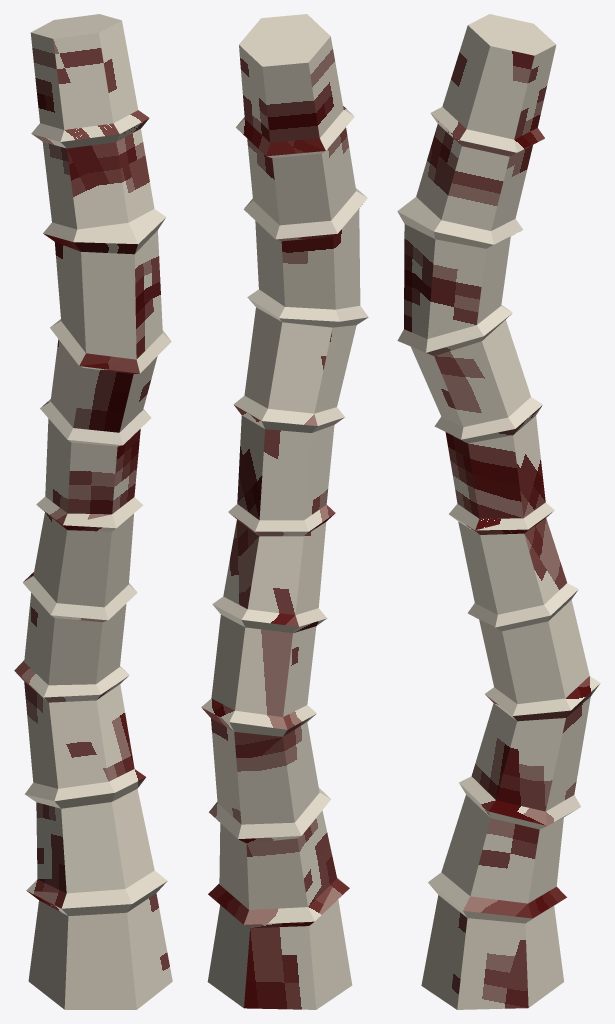
File: HumanSpine.fbx
The picture shows the model from 3 angles, left to right: view 1: azimuth 30°, elevation 25°; view 2: azimuth 150°, elevation 25°; view 3: azimuth 270°, elevation 25°; orthographic projection.
Visible parts, largest first — view 1: Spine; view 2: Spine; view 3: Spine.
Part boxes in pixels (left/top/right/bottom): Spine: left=14, top=14, right=172, bottom=1009; Spine: left=201, top=14, right=368, bottom=1009; Spine: left=397, top=14, right=600, bottom=1009.
Bounding box in the file's own units: 76.56 × 630 × 122.
